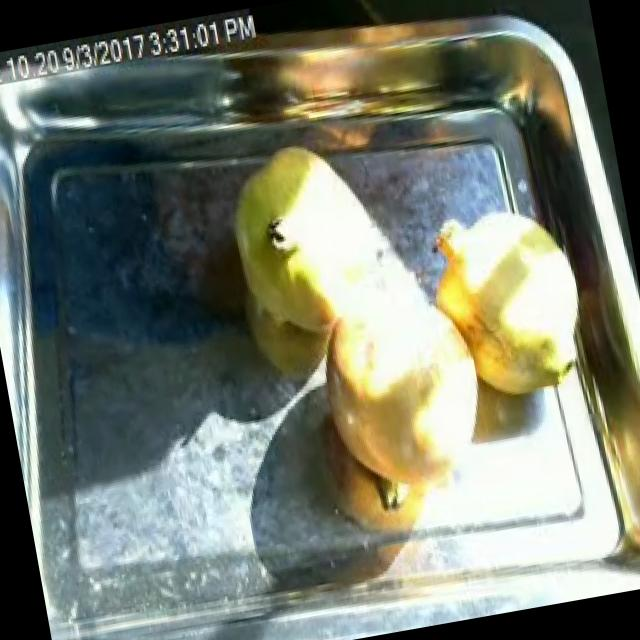fruit: (294, 271, 512, 532), (202, 120, 402, 358), (407, 196, 602, 430)
